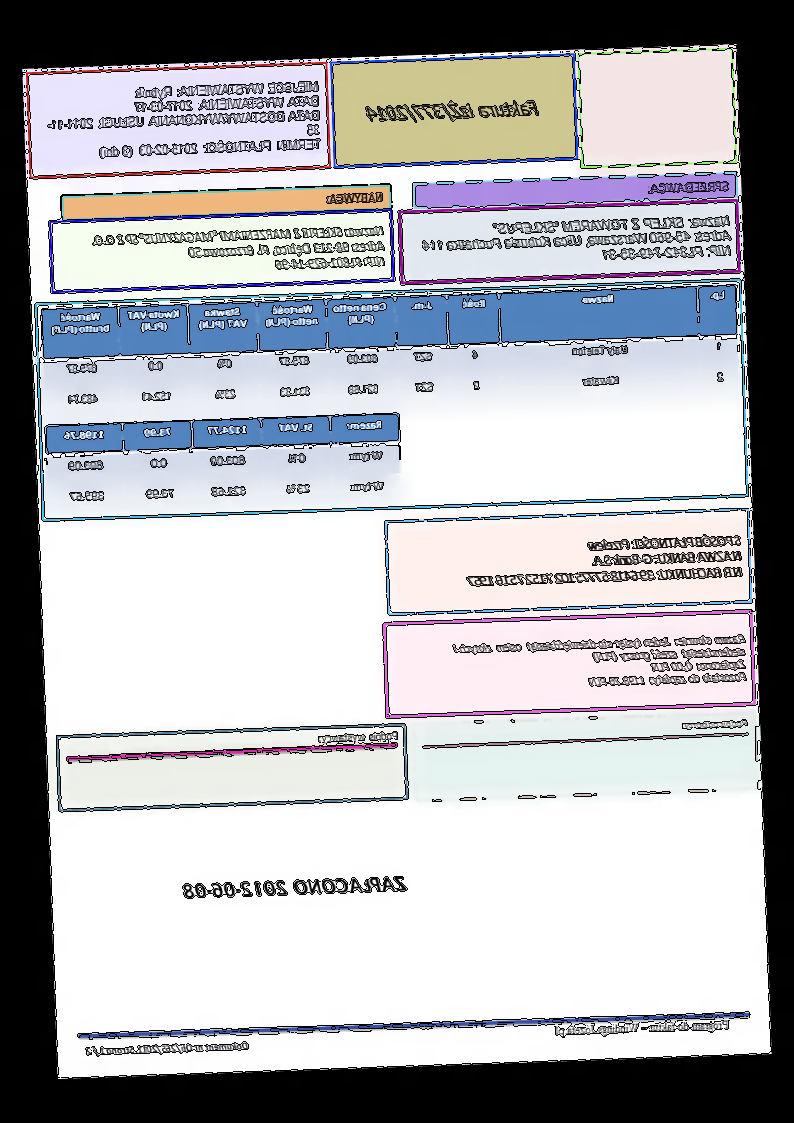Table: (40, 282, 742, 423), (43, 410, 405, 517)
TextBox: (43, 77, 323, 164), (448, 631, 748, 694), (420, 212, 734, 271), (89, 221, 388, 280), (464, 530, 745, 592), (182, 871, 409, 903), (362, 96, 544, 126), (554, 1014, 731, 1040), (83, 1036, 251, 1059), (646, 176, 734, 196), (316, 728, 402, 747), (681, 714, 751, 733), (325, 187, 386, 208)
